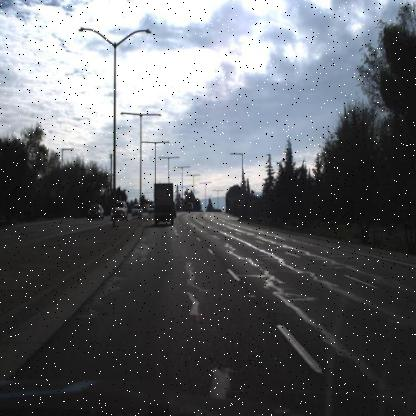car: (109, 198, 130, 221), (85, 202, 104, 224), (130, 198, 145, 221), (109, 200, 127, 219), (86, 203, 104, 221), (131, 204, 142, 218), (186, 200, 194, 213), (173, 200, 177, 220)
truck: (152, 182, 174, 227)
